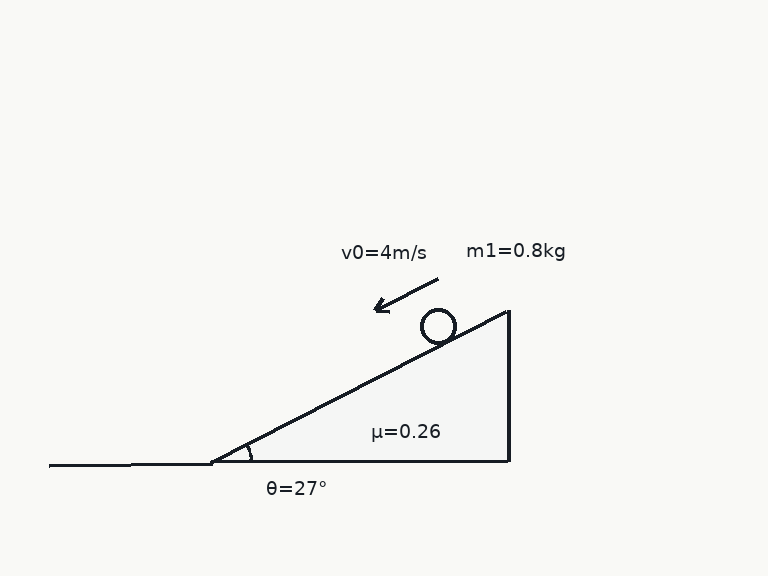ball: (418, 306, 458, 346)
ramp: (209, 309, 510, 464)
